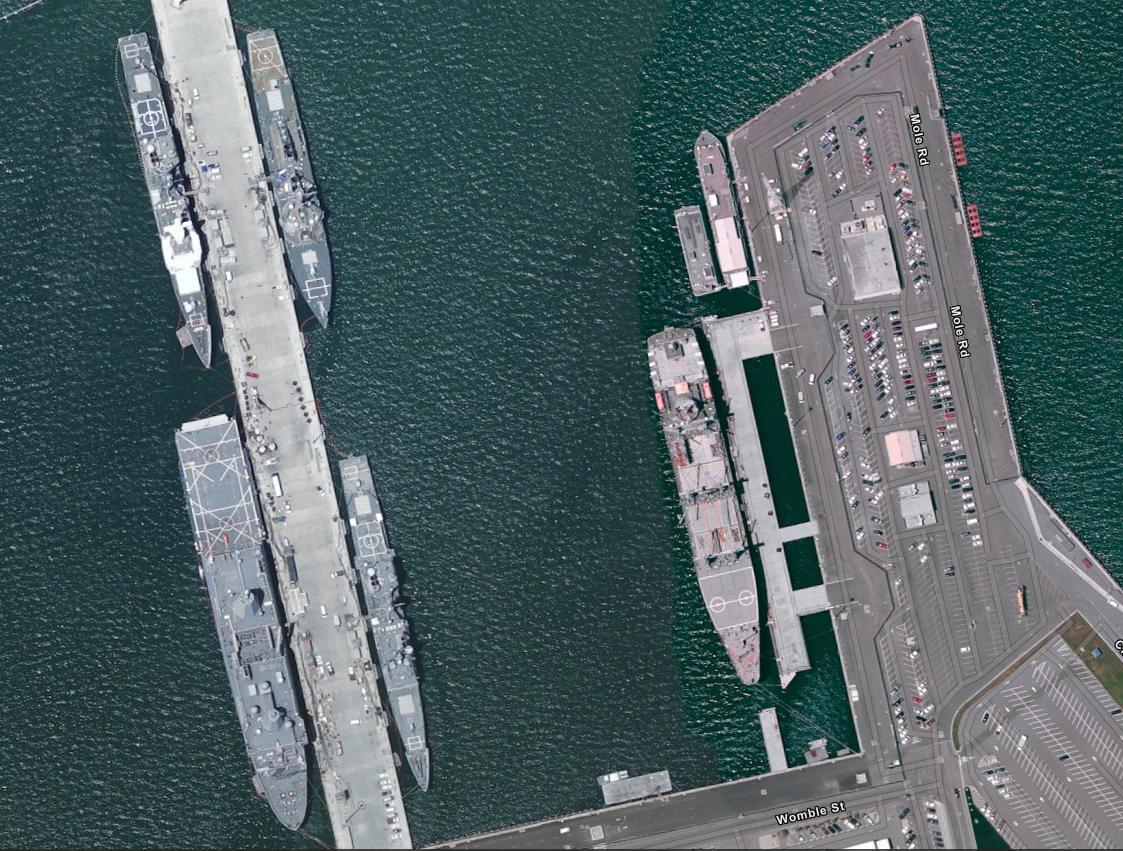amphiby: (176, 410, 317, 834)
cruiser: (108, 30, 220, 369), (335, 449, 439, 796)
fregate: (245, 18, 341, 331)
supply: (645, 320, 768, 692)
